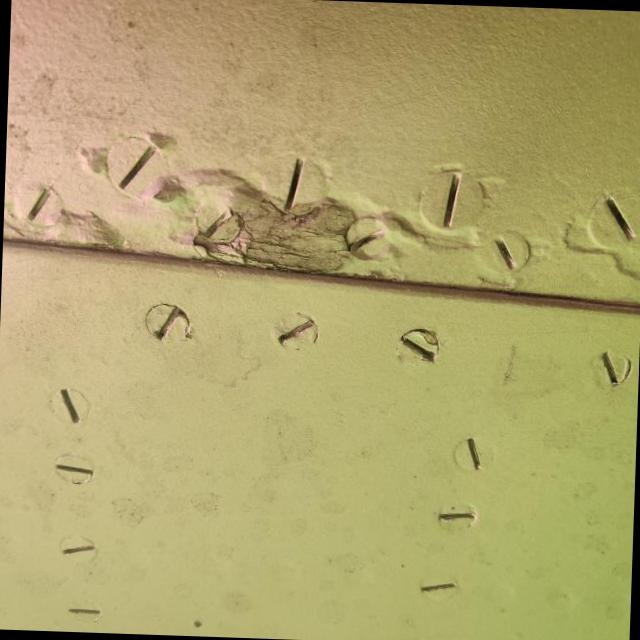Paint-off: (150, 169, 386, 272)
